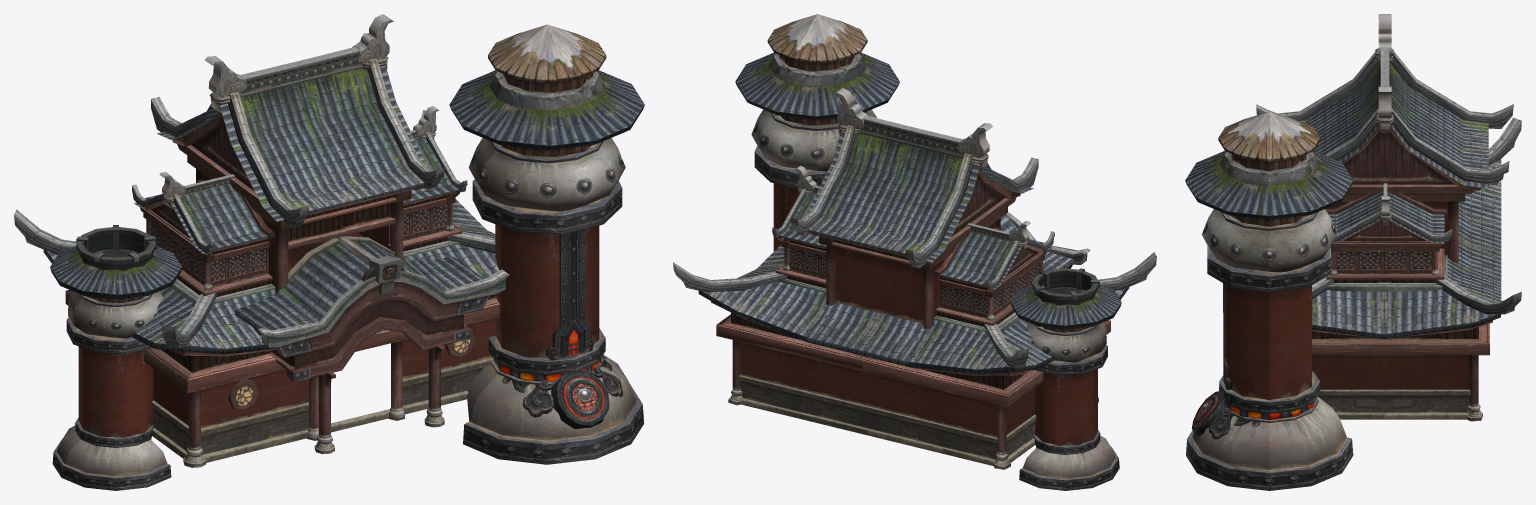
File: xinshoubujian16.FBX
3 renders of one model, left to right at view 1: azimuth 30°, elevation 25°; view 2: azimuth 150°, elevation 25°; view 3: azimuth 270°, elevation 25°, orthographic. The views are drawn at different scales.
Parts seen in each view (by area): view 1: Mesh_0048; view 2: Mesh_0048; view 3: Mesh_0048.
Part boxes in pixels (box(x1,y1,x2,y2)): Mesh_0048: box(14, 14, 644, 490); Mesh_0048: box(673, 14, 1156, 490); Mesh_0048: box(1185, 14, 1521, 490).
Size of the model in its own units: 4.98 by 3.78 by 3.34.
